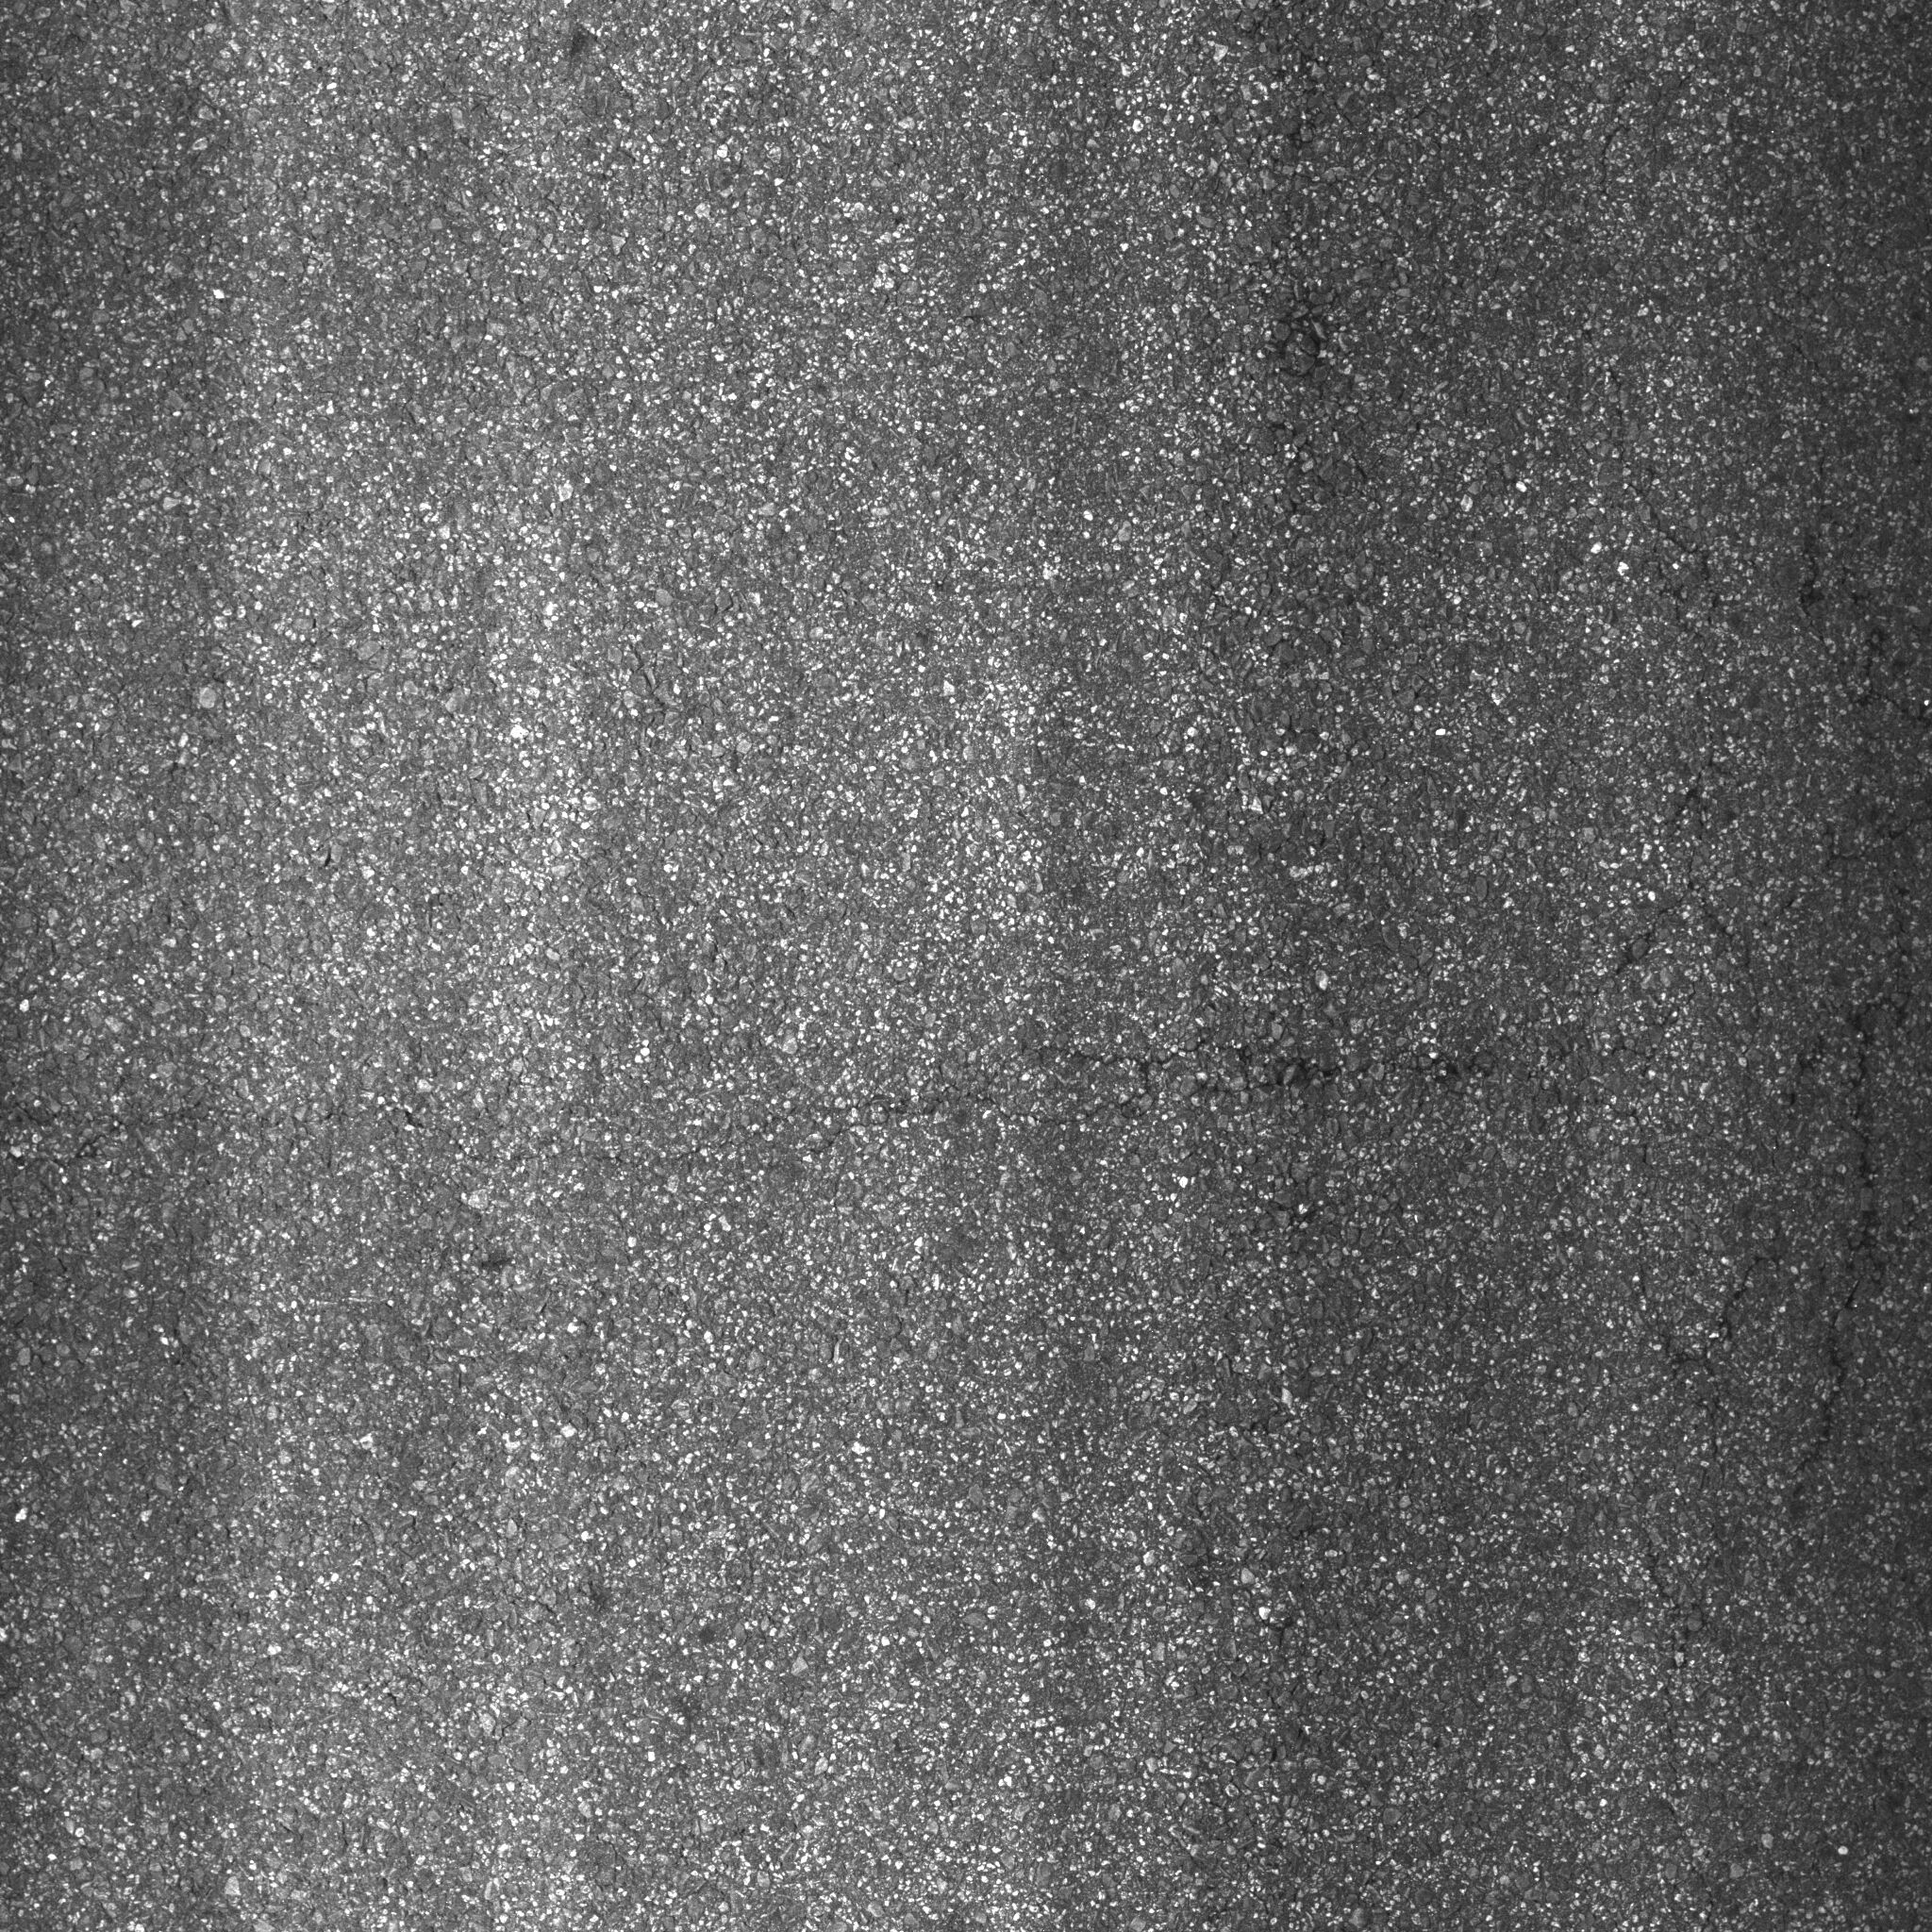transeverse: (1070, 862, 1739, 1132), (1801, 973, 1914, 1458)
